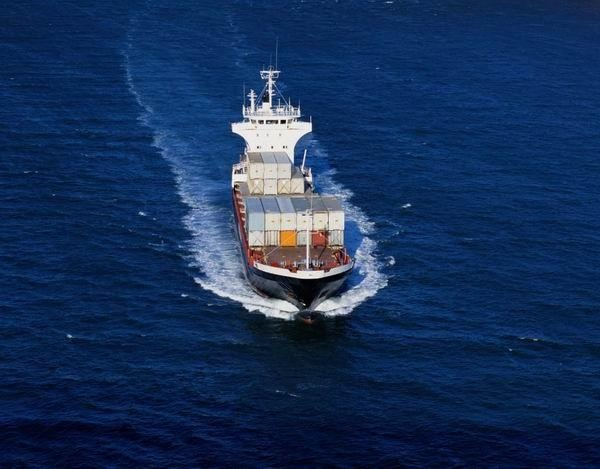Cargoship: (231, 37, 356, 317)
